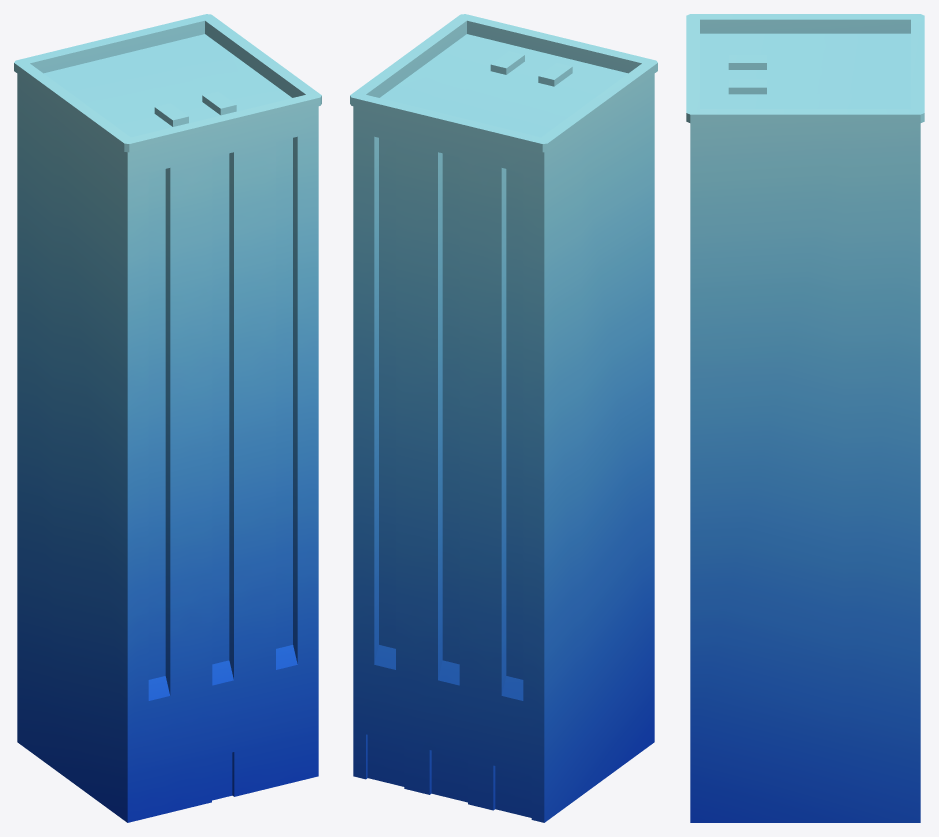
Rendered from build6.fbx.
The picture shows the model from 3 angles, left to right: view 1: azimuth 30°, elevation 25°; view 2: azimuth 150°, elevation 25°; view 3: azimuth 270°, elevation 25°; orthographic projection. The views are drawn at different scales.
Parts seen in each view (by area): view 1: skyscraperF; view 2: skyscraperF; view 3: skyscraperF.
Boxes of the visible parts, x1=… form: skyscraperF: x1=14, y1=14, x2=321, y2=822; skyscraperF: x1=350, y1=14, x2=657, y2=822; skyscraperF: x1=686, y1=14, x2=924, y2=822.
Bounding box in the file's own units: 116 × 381 × 116.
